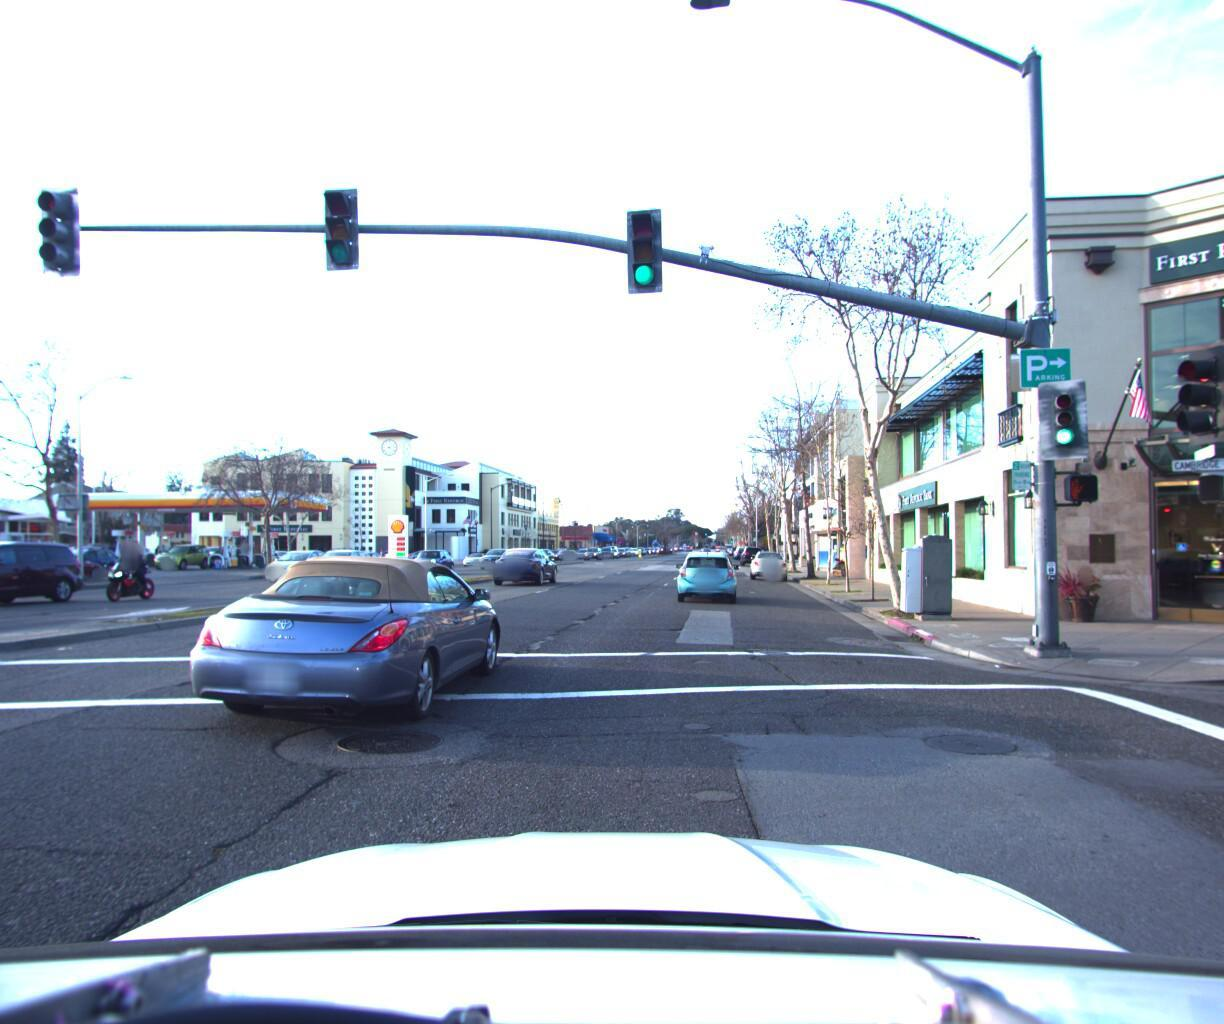car: (202, 550, 525, 748), (0, 533, 94, 614), (2, 547, 117, 586), (677, 545, 738, 602), (294, 546, 385, 583), (34, 544, 131, 578), (258, 545, 343, 582), (494, 543, 560, 583), (149, 542, 216, 570), (403, 543, 460, 573), (750, 545, 787, 579), (474, 544, 517, 567), (739, 541, 764, 563)
motorcycle: (91, 537, 169, 599)
